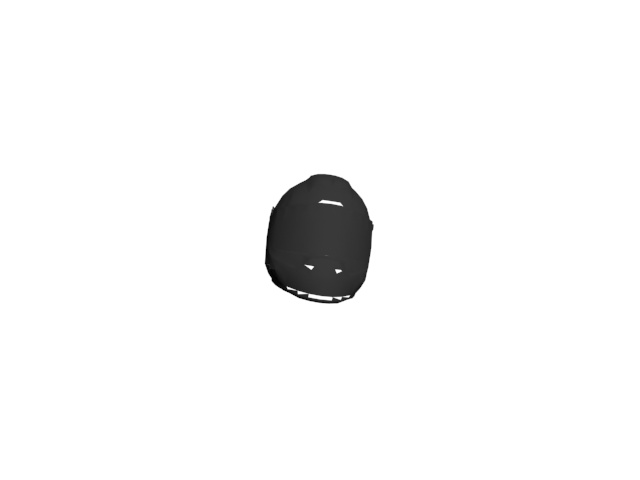bike_helmet: (265, 169, 376, 304)
